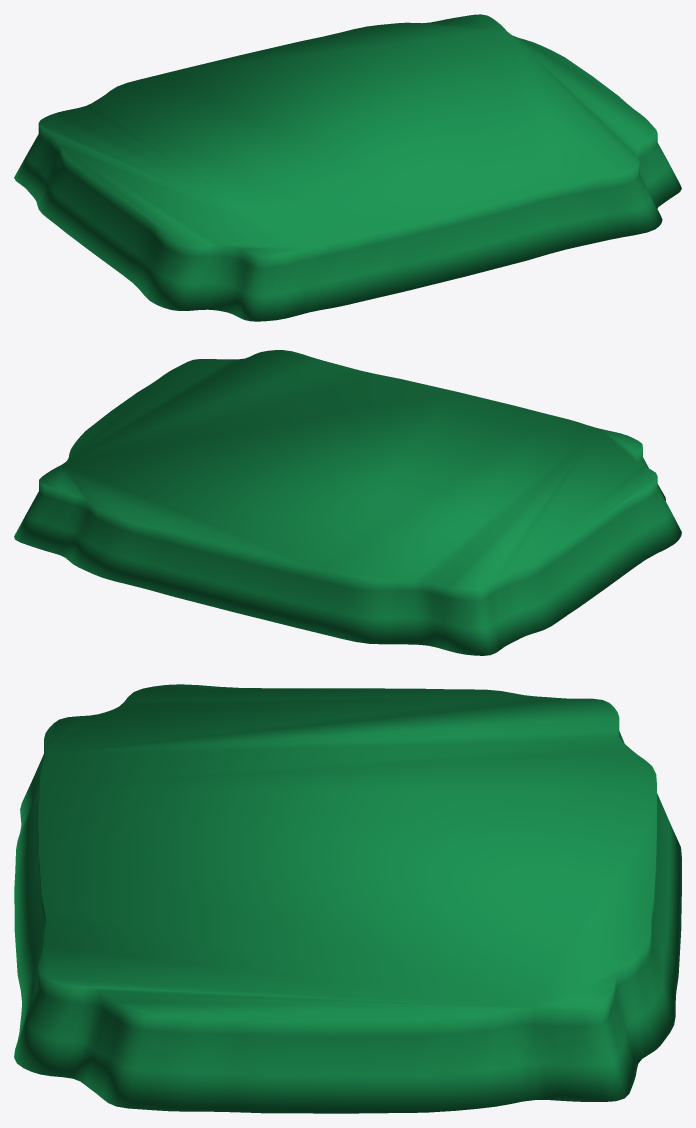
Rendered from jelly-foundation.glb.
The picture shows the model from 3 angles, top to bottom: view 1: azimuth 30°, elevation 25°; view 2: azimuth 150°, elevation 25°; view 3: azimuth 270°, elevation 25°; orthographic projection. The views are drawn at different scales.
Visible parts, largest first — view 1: jelly-foundation; view 2: jelly-foundation; view 3: jelly-foundation.
Part boxes in pixels (<box>): jelly-foundation: <box>14,14,681,321</box>; jelly-foundation: <box>14,350,681,655</box>; jelly-foundation: <box>14,684,681,1113</box>.
Bounding box in the file's own units: 12.25 × 1.25 × 9.52.
